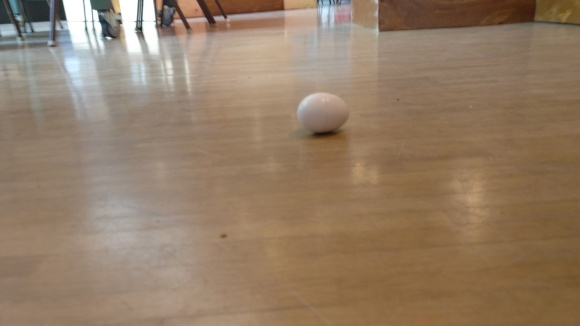egg: (296, 91, 352, 135)
